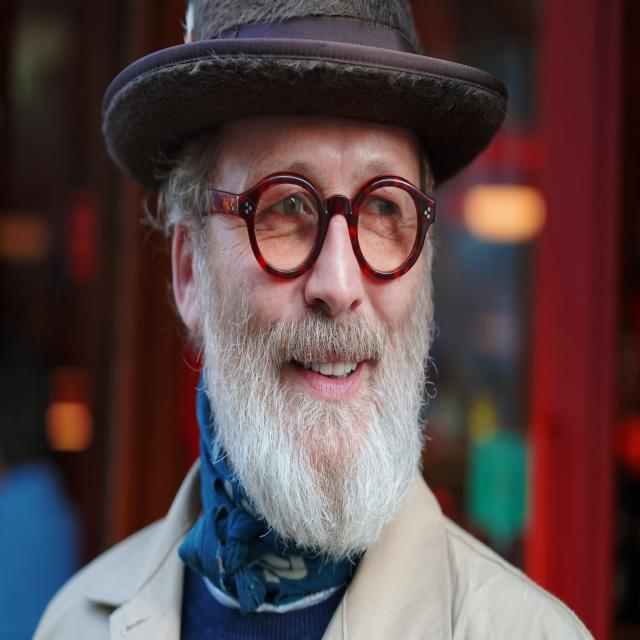adult: (106, 1, 511, 640)
